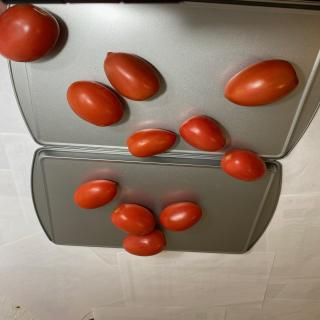Tomato: (224, 59, 299, 107), (0, 3, 60, 62), (104, 52, 160, 102), (66, 80, 124, 127), (179, 115, 226, 152), (126, 128, 177, 158), (110, 203, 156, 236), (220, 149, 267, 181), (74, 180, 118, 210), (159, 202, 202, 232), (122, 229, 167, 256)
